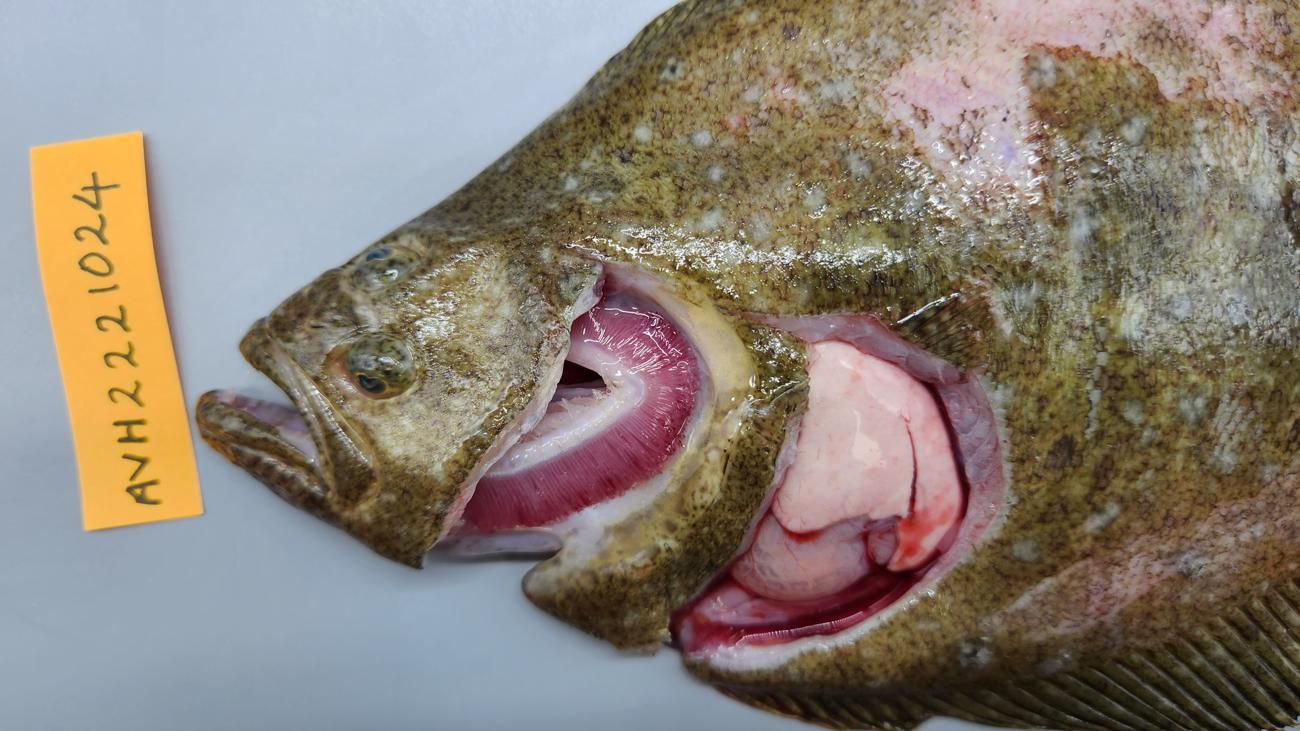VIGIP: (468, 305, 704, 531)
VILII: (774, 378, 960, 570)
